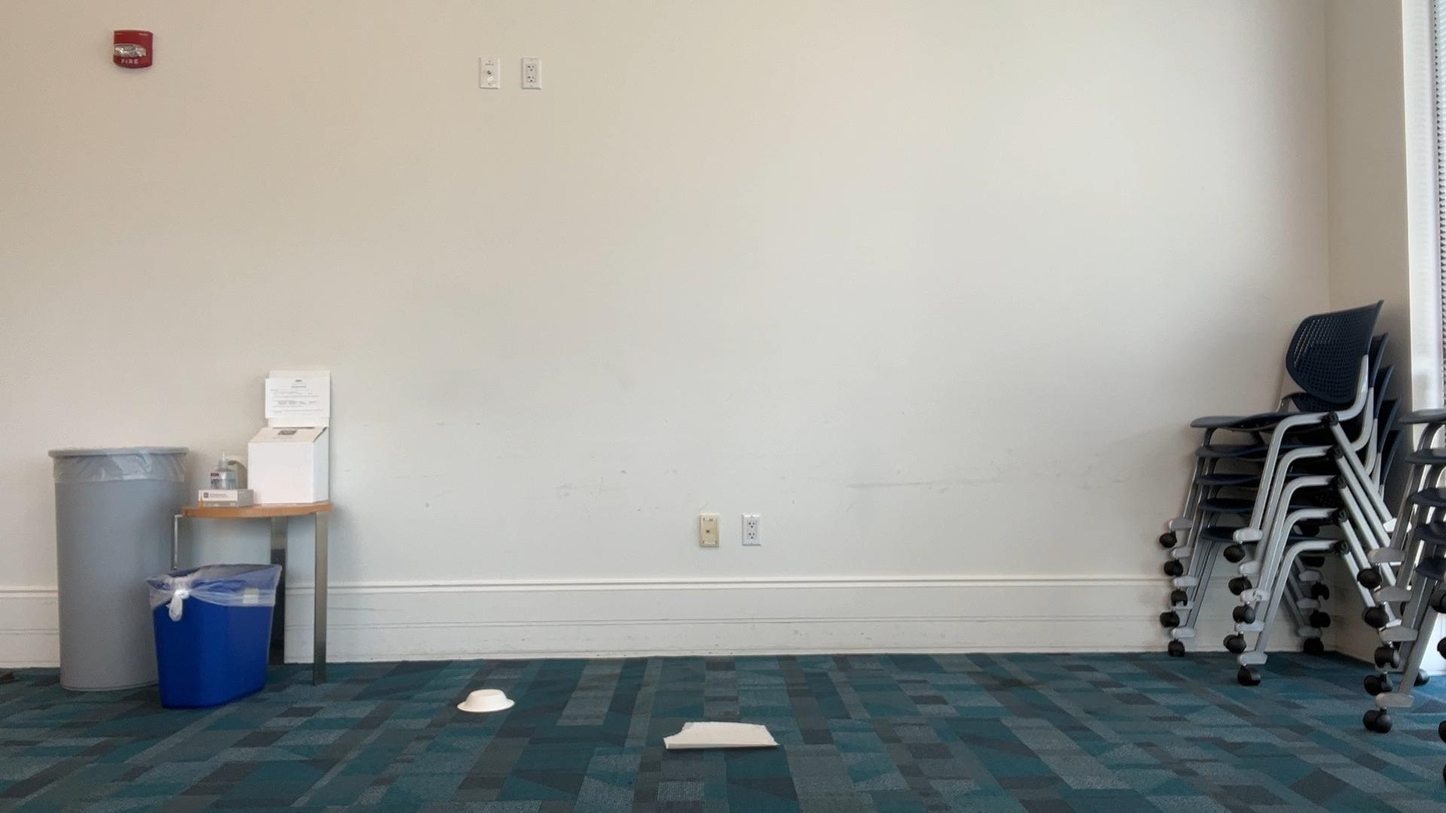Trash: (653, 703, 791, 768), (441, 674, 528, 728)
